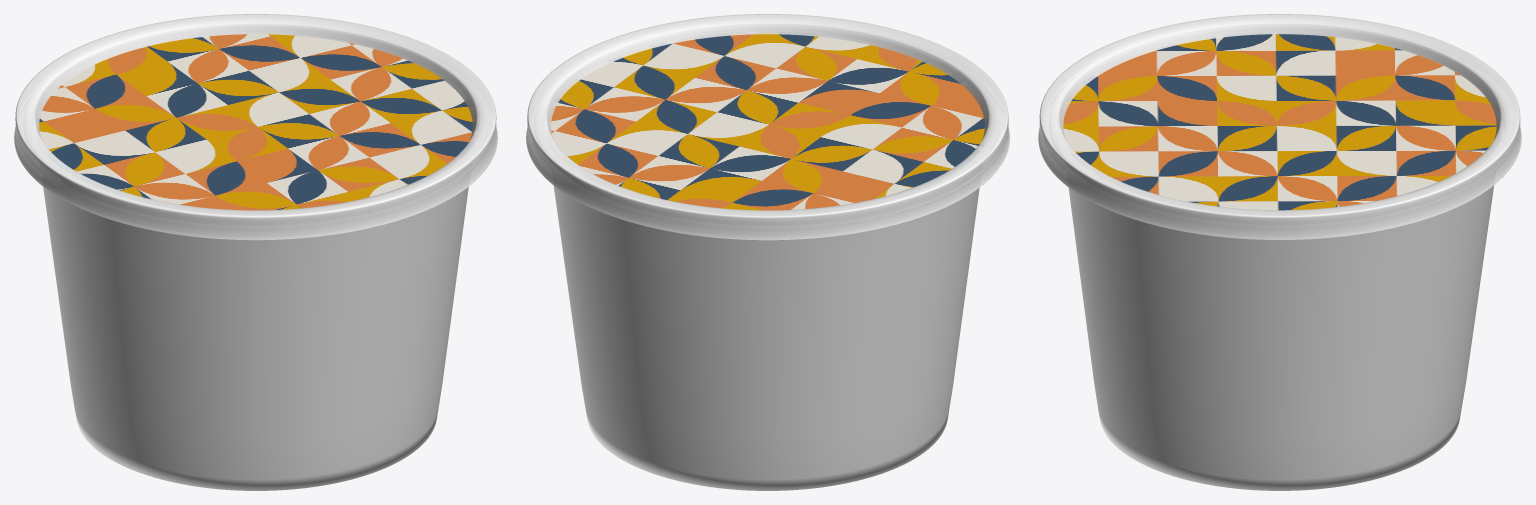
File: 500ml_round.glb
3 renders of one model, left to right at view 1: azimuth 30°, elevation 25°; view 2: azimuth 150°, elevation 25°; view 3: azimuth 270°, elevation 25°, orthographic.
Visible parts, largest first — view 1: Cylinder_1, top label.001, top; view 2: Cylinder_1, top label.001, top; view 3: Cylinder_1, top label.001, top.
Boxes of the visible parts, bbox=[...] form: Cylinder_1: bbox=[43, 186, 468, 490]; top label.001: bbox=[39, 34, 472, 210]; top: bbox=[14, 14, 497, 240]; Cylinder_1: bbox=[553, 186, 979, 490]; top label.001: bbox=[550, 34, 985, 210]; top: bbox=[526, 14, 1009, 240]; Cylinder_1: bbox=[1068, 185, 1493, 490]; top label.001: bbox=[1063, 34, 1496, 210]; top: bbox=[1038, 14, 1521, 239].
Size of the model in its own units: 0.1198 by 0.0819 by 0.1198.
5 materials, 3 textured.
